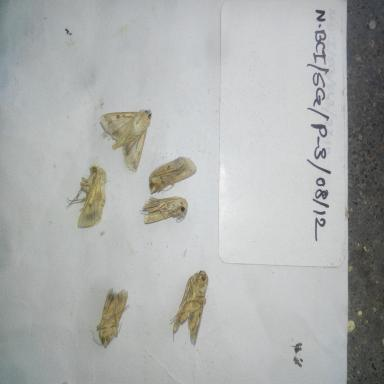abw: (164, 267, 216, 351), (97, 103, 156, 175), (63, 158, 110, 233), (86, 283, 133, 354), (142, 149, 199, 203), (137, 189, 193, 230)
